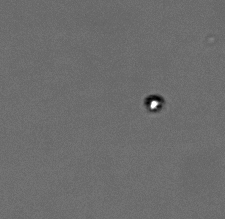Living Cell: (143, 94, 167, 112)
